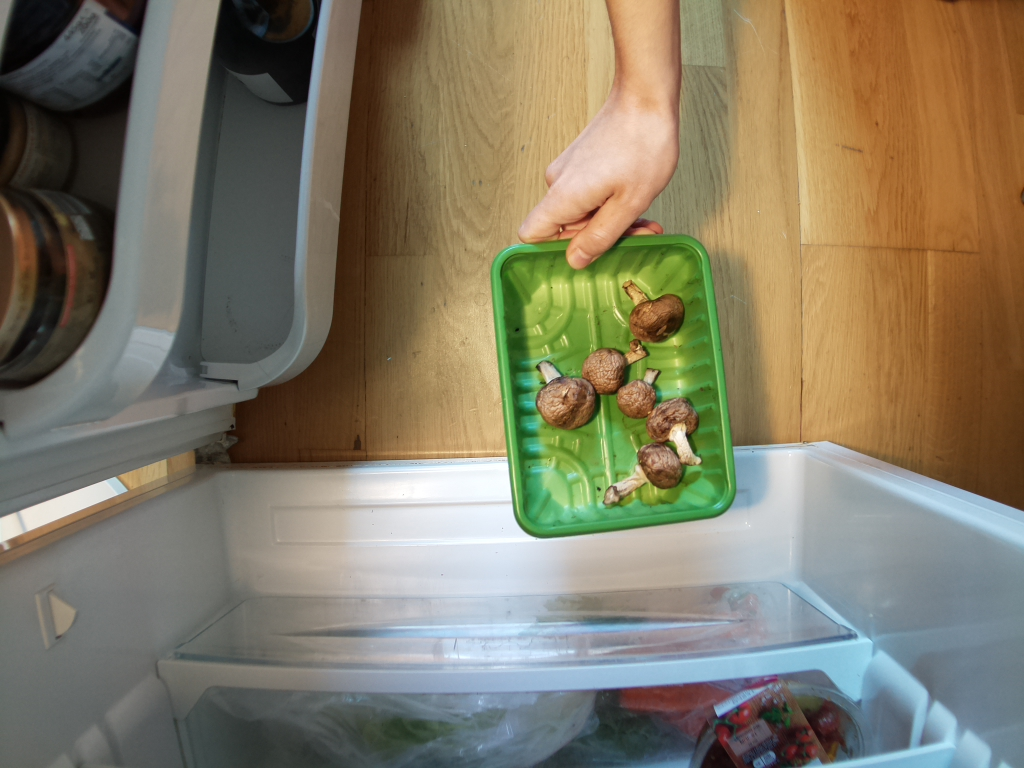mushrooms-bad: (487, 235, 739, 544)
